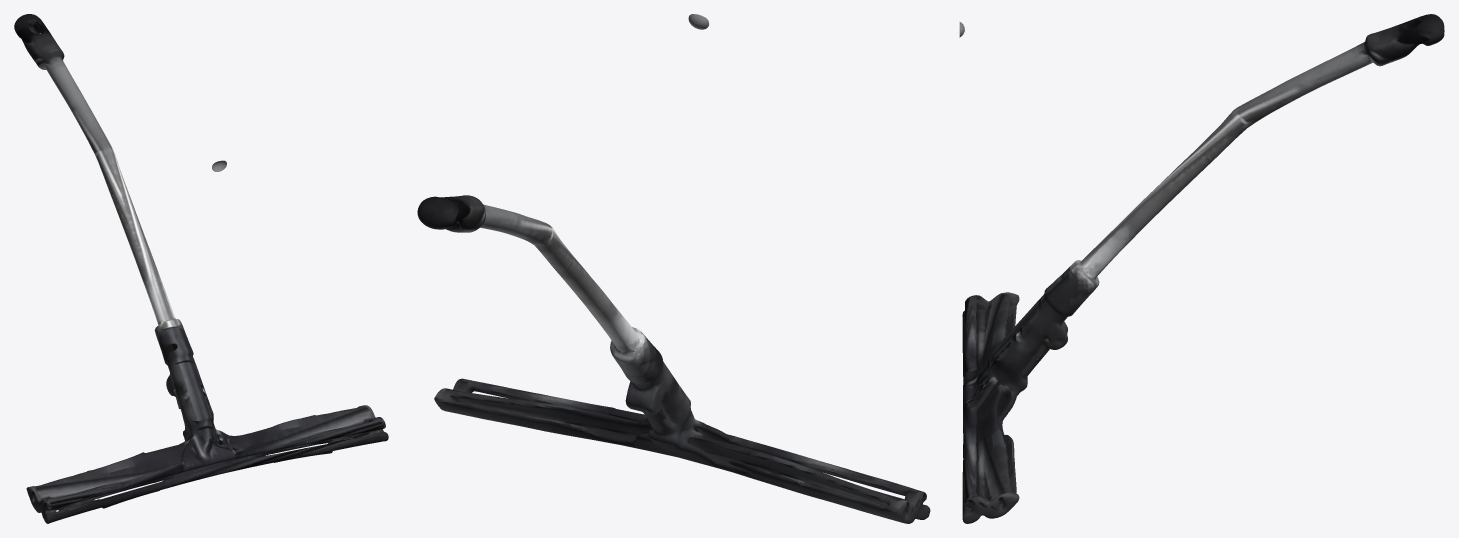
Rendered from squeegee.glb.
3 views of the same model, side by side, from view 1: azimuth 30°, elevation 25°; view 2: azimuth 150°, elevation 25°; view 3: azimuth 270°, elevation 25° (orthographic). The views are drawn at different scales.
Parts seen in each view (by area): view 1: cowninja-squeegee; view 2: cowninja-squeegee; view 3: cowninja-squeegee.
Boxes of the visible parts, x1=… form: cowninja-squeegee: x1=14, y1=14, x2=388, y2=523; cowninja-squeegee: x1=417, y1=14, x2=930, y2=523; cowninja-squeegee: x1=959, y1=14, x2=1444, y2=523.
Bounding box in the file's own units: 1.5 × 1.38 × 1.5.
1 material, 1 textured.
